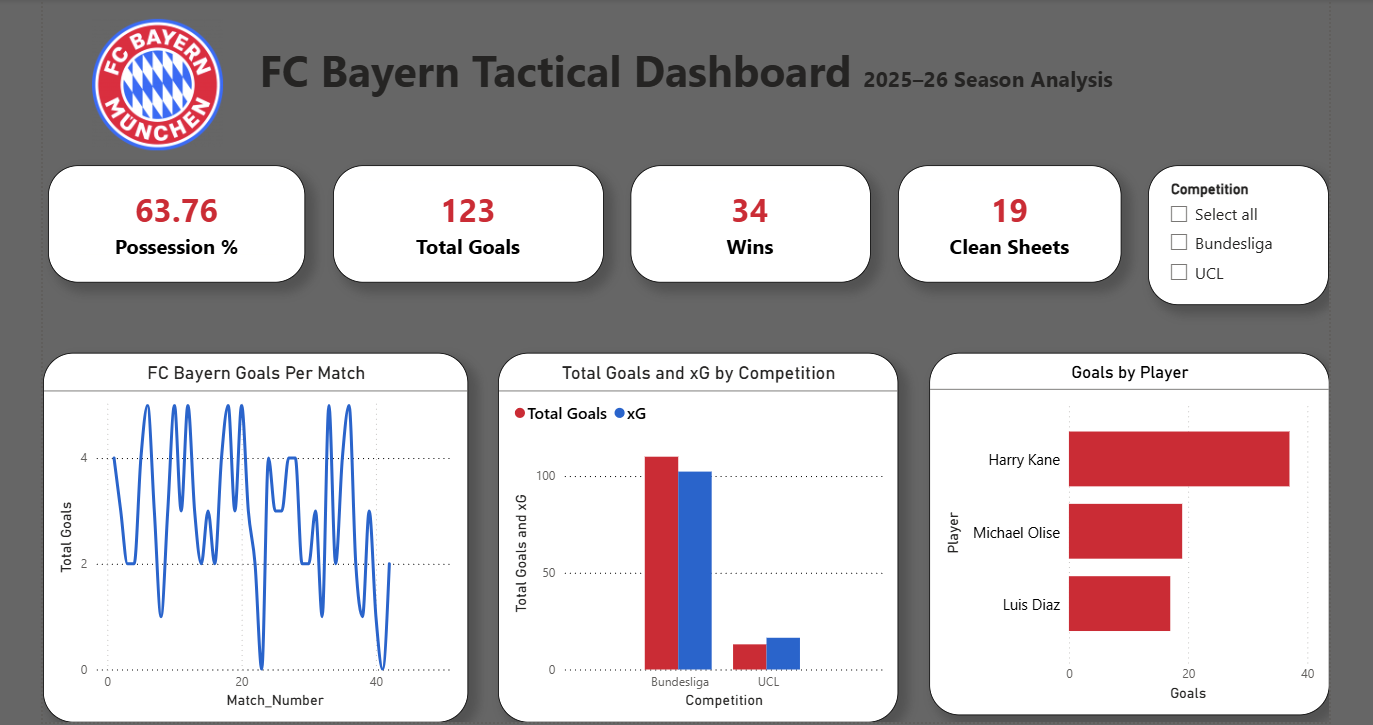

This screenshot's page, from the dashboard's own definition file:
{"tool":"powerbi","page":{"name":"Page 1","canvas":[1280,720],"ordinal":0},"visuals":[{"type":"cardVisual","fields":{"Data":["Sum(match_logs.Goals_For)"]},"box":[288,165.4,269.9,116.9],"z":0},{"type":"cardVisual","fields":{"Data":["Avg(match_logs.Possession)"]},"box":[5,165.4,256.3,116.9],"z":1000},{"type":"textbox","box":[80.9,36.1,1118.3,95.8],"z":2000},{"type":"lineChart","title":"FC Bayern Goals Per Match","fields":{"Y":["Sum(match_logs.Goals_For)"],"Category":["match_logs.Match_Number"]},"box":[0,352,422.9,368.2],"z":3000},{"type":"slicer","fields":{"Values":["match_logs.Competition"]},"box":[1099.7,165.4,180.4,139.3],"z":4000},{"type":"clusteredColumnChart","fields":{"Category":["goalkeeper_stats.Competition"],"Y":["Sum(match_logs.Goals_For)","Sum(match_logs.xG)"]},"box":[453.4,352,398.1,368.2],"z":5000},{"type":"image","box":[0,0,227.8,170.2],"z":6000},{"type":"cardVisual","fields":{"Data":["Sum(team_stats.Wins)"]},"box":[584.7,165.4,238.8,116.9],"z":7000},{"type":"cardVisual","fields":{"Data":["Sum(goalkeeper_stats.Clean_Sheets)"]},"box":[850.2,165.4,222.7,116.9],"z":8000},{"type":"clusteredBarChart","fields":{"Category":["attack_trio_stats.Player"],"Y":["Sum(attack_trio_stats.Goals)"]},"box":[881.9,352,398.1,360.7],"z":9000}]}

Visuals, with their boxes in screenshot pixels (x1, y1, x2, y2):
cardVisual - Sum(match_logs.Goals_For): crop(333, 164, 601, 281)
cardVisual - Avg(match_logs.Possession): crop(51, 164, 306, 281)
textbox: crop(127, 36, 1239, 131)
"FC Bayern Goals Per Match" lineChart: crop(46, 350, 467, 716)
slicer - match_logs.Competition: crop(1140, 164, 1319, 303)
clusteredColumnChart - goalkeeper_stats.Competition x Sum(match_logs.Goals_For): crop(497, 350, 893, 716)
image: crop(46, 0, 273, 169)
cardVisual - Sum(team_stats.Wins): crop(628, 164, 865, 281)
cardVisual - Sum(goalkeeper_stats.Clean_Sheets): crop(892, 164, 1113, 281)
clusteredBarChart - attack_trio_stats.Player x Sum(attack_trio_stats.Goals): crop(923, 350, 1319, 709)
